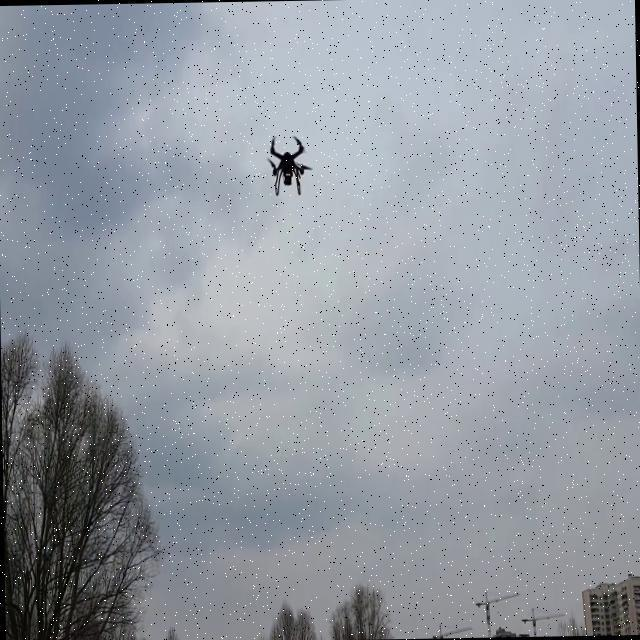Drons: (258, 130, 315, 202)
